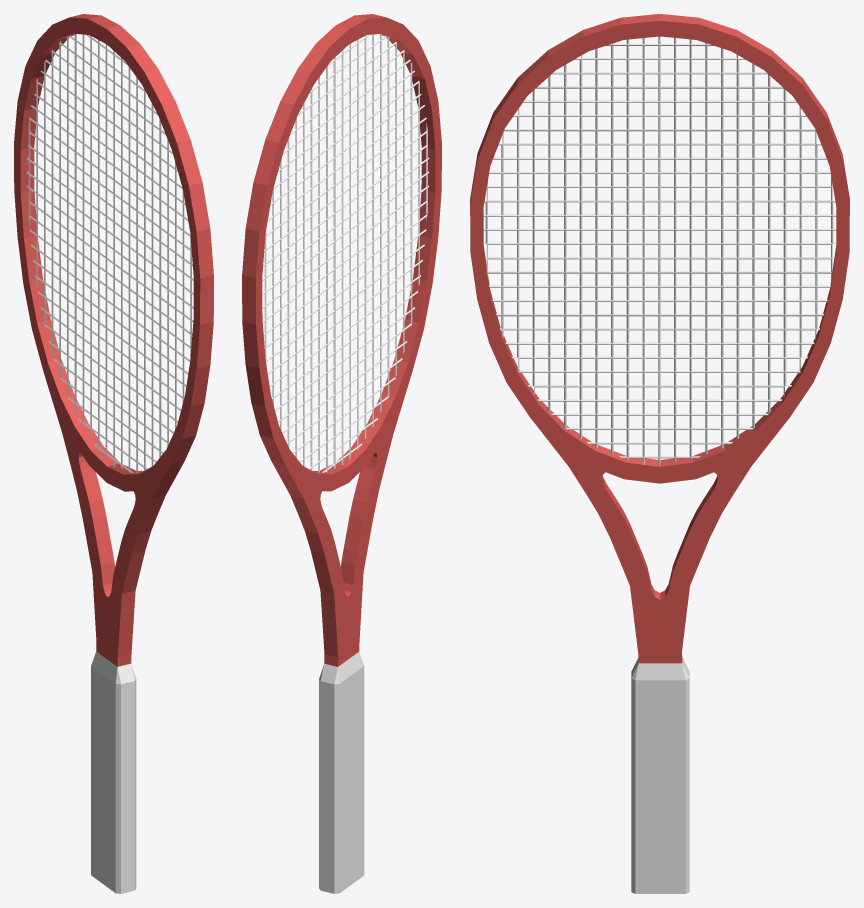
File: racket.3281c5b4.glb
The picture shows the model from 3 angles, left to right: view 1: azimuth 30°, elevation 25°; view 2: azimuth 150°, elevation 25°; view 3: azimuth 270°, elevation 25°; orthographic projection. The views are drawn at different scales.
Parts seen in each view (by area): view 1: Plane; view 2: Plane; view 3: Plane.
Boxes of the visible parts, <box> form: Plane: <box>14,14,213,893</box>; Plane: <box>242,14,441,893</box>; Plane: <box>470,14,849,893</box>.
Size of the model in its own units: 0.1207 by 4.78 by 1.89.
